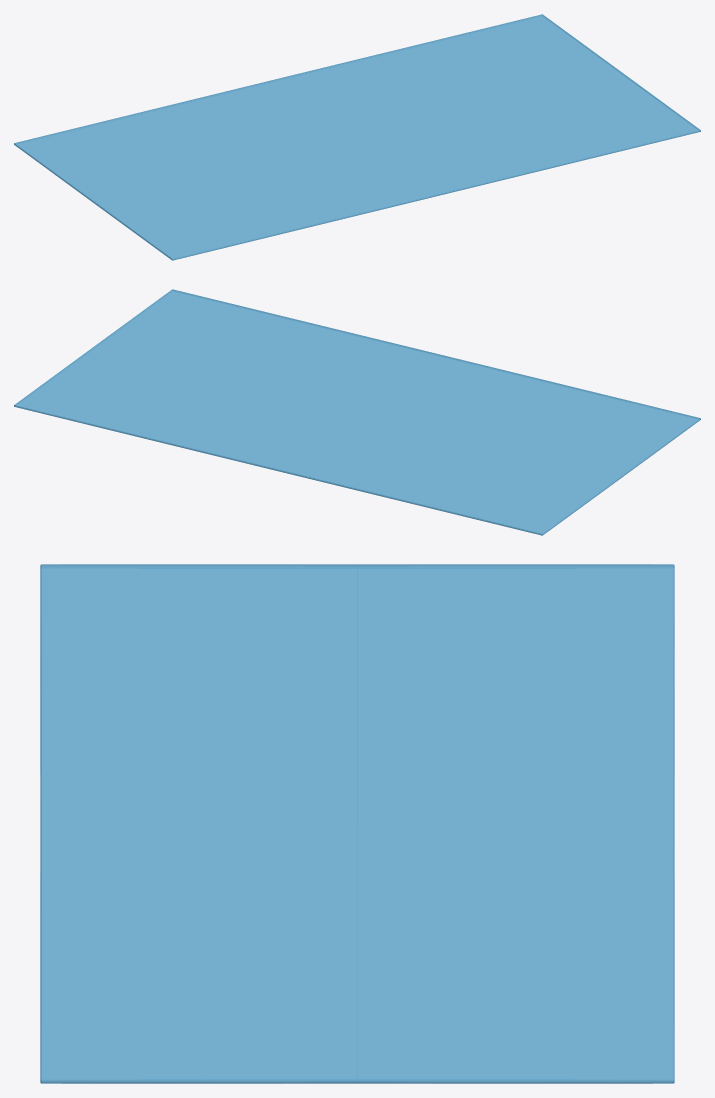
Rendered from 22_PS_Table_SmartGlassDeck.glb.
The picture shows the model from 3 angles, top to bottom: view 1: azimuth 30°, elevation 25°; view 2: azimuth 150°, elevation 25°; view 3: azimuth 270°, elevation 25°; orthographic projection. The views are drawn at different scales.
Parts seen in each view (by area): view 1: PS_Table_SmartGlassDeck; view 2: PS_Table_SmartGlassDeck; view 3: PS_Table_SmartGlassDeck.
Boxes of the visible parts, x1,y1,x2,y2 form: PS_Table_SmartGlassDeck: (14,14,700,260); PS_Table_SmartGlassDeck: (14,289,700,535); PS_Table_SmartGlassDeck: (40,564,674,1083).
Size of the model in its own units: 9.3 by 0.035 by 4.83.
